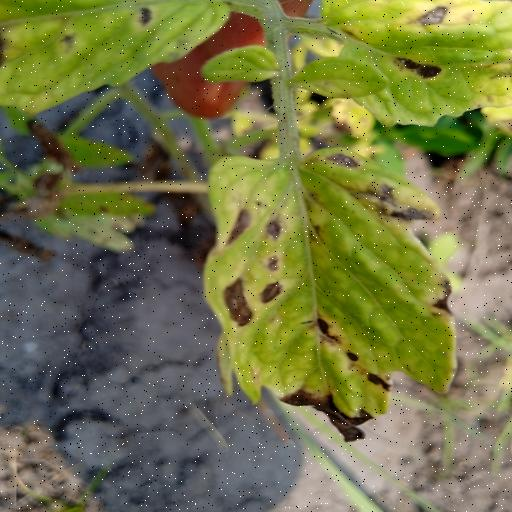Tomato_Brown_Spots: (202, 144, 460, 446)
